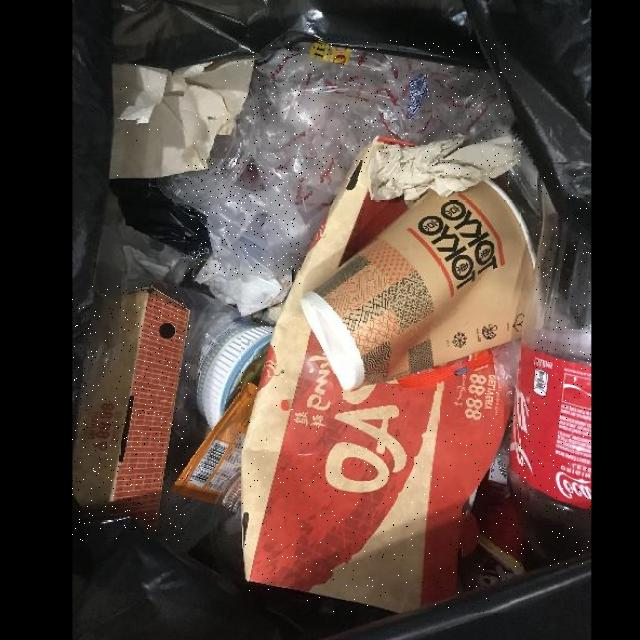paper: (242, 135, 510, 613), (300, 179, 535, 390), (73, 286, 190, 540), (109, 53, 263, 179), (369, 132, 520, 203)
plastic: (251, 39, 516, 222), (508, 173, 591, 568), (184, 158, 334, 277)
